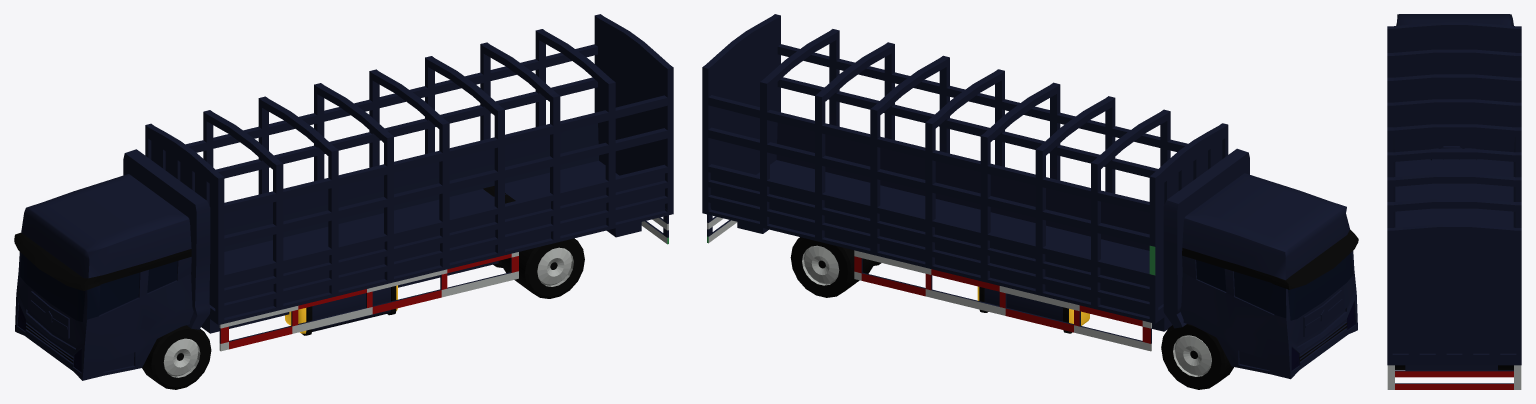
The model's file is car.glb.
The picture shows the model from 3 angles, left to right: view 1: azimuth 30°, elevation 25°; view 2: azimuth 150°, elevation 25°; view 3: azimuth 270°, elevation 25°; orthographic projection. The views are drawn at different scales.
Visible parts, largest first — view 1: ??099; view 2: ??099; view 3: ??099.
Boxes of the visible parts, bbox=[...] form: ??099: bbox=[14, 14, 673, 389]; ??099: bbox=[702, 14, 1358, 389]; ??099: bbox=[1387, 14, 1521, 389].
Bounding box in the file's own units: 13.08 × 4.42 × 2.77.
